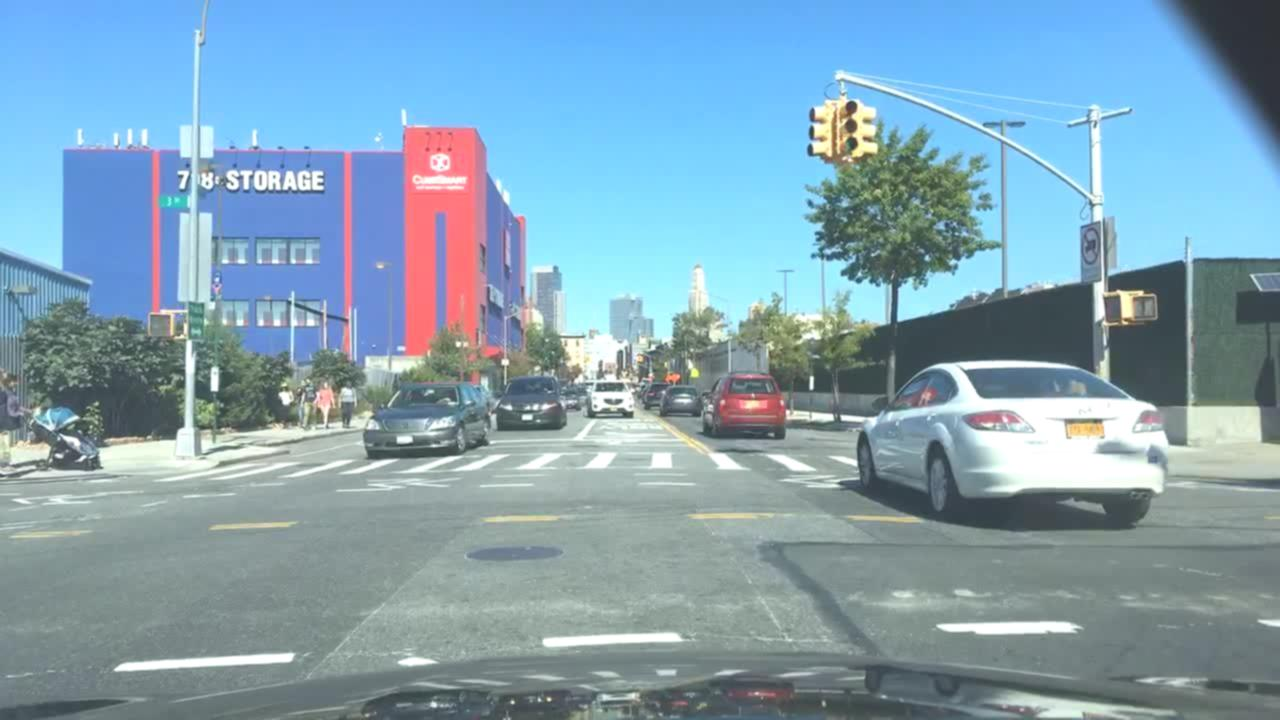Mazda: (1076, 403, 1095, 422)
